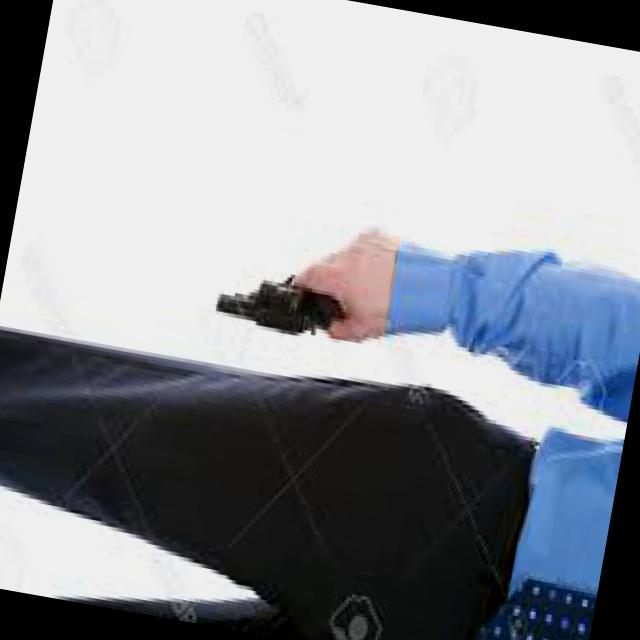handgun: (214, 235, 362, 351)
